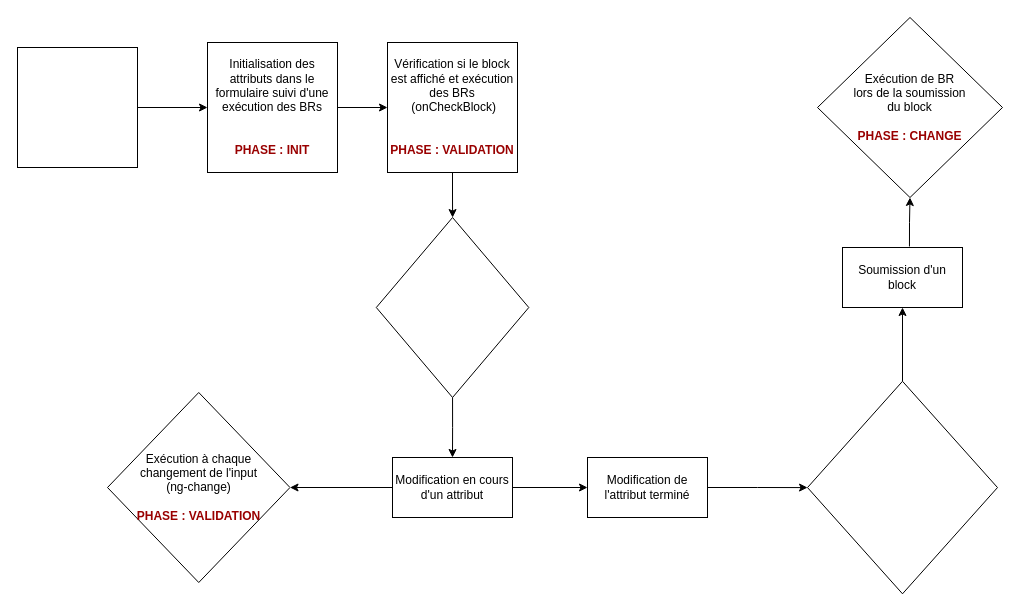
The diagram is 1020 pixels wide and 612 high, and some of its shapes have lost their labels. Each missing label, with the centre of its shape:
Exécution de BR lors de la perte de focus de l'input ng-blur PHASE : CHANGE: (902,487)
Exécution initiale des business rule (ng-init) PHASE : CHANGE: (452,307)
Génération du formulaire: (77,107)
